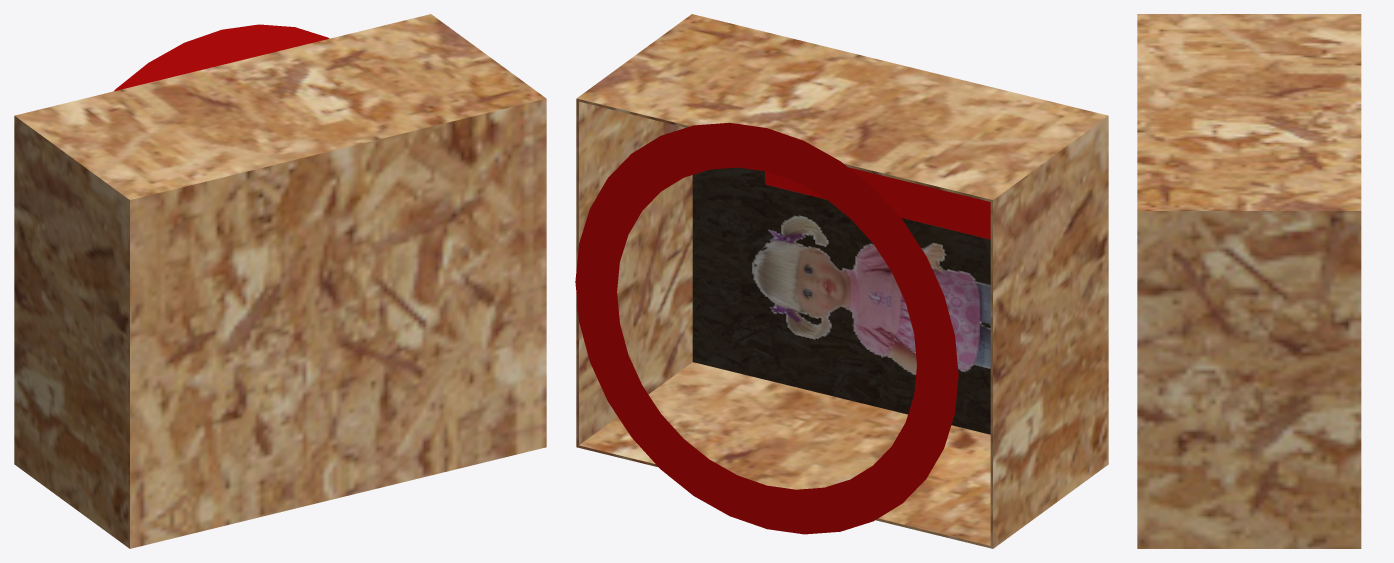
The model's file is victim_with_box_t.dae.
3 views of the same model, side by side, from view 1: azimuth 30°, elevation 25°; view 2: azimuth 150°, elevation 25°; view 3: azimuth 270°, elevation 25° (orthographic). The views are drawn at different scales.
Parts seen in each view (by area): view 1: Untitled; view 2: Untitled; view 3: Untitled.
Part boxes in pixels (x1,y1,x2,y2): Untitled: (14, 14, 546, 548); Untitled: (575, 14, 1108, 548); Untitled: (1137, 14, 1361, 548).
Bounding box in the file's own units: 0.5 × 0.2596 × 0.46.
Materials: 3 (2 with a texture image).
